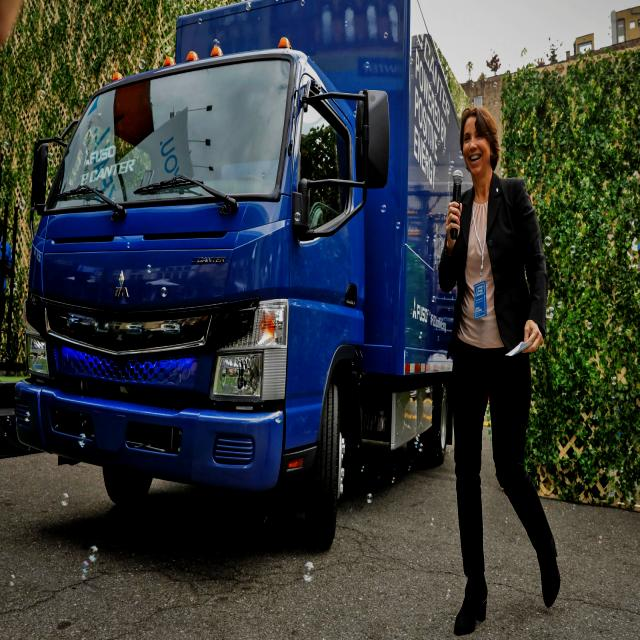truck: (15, 1, 467, 552)
